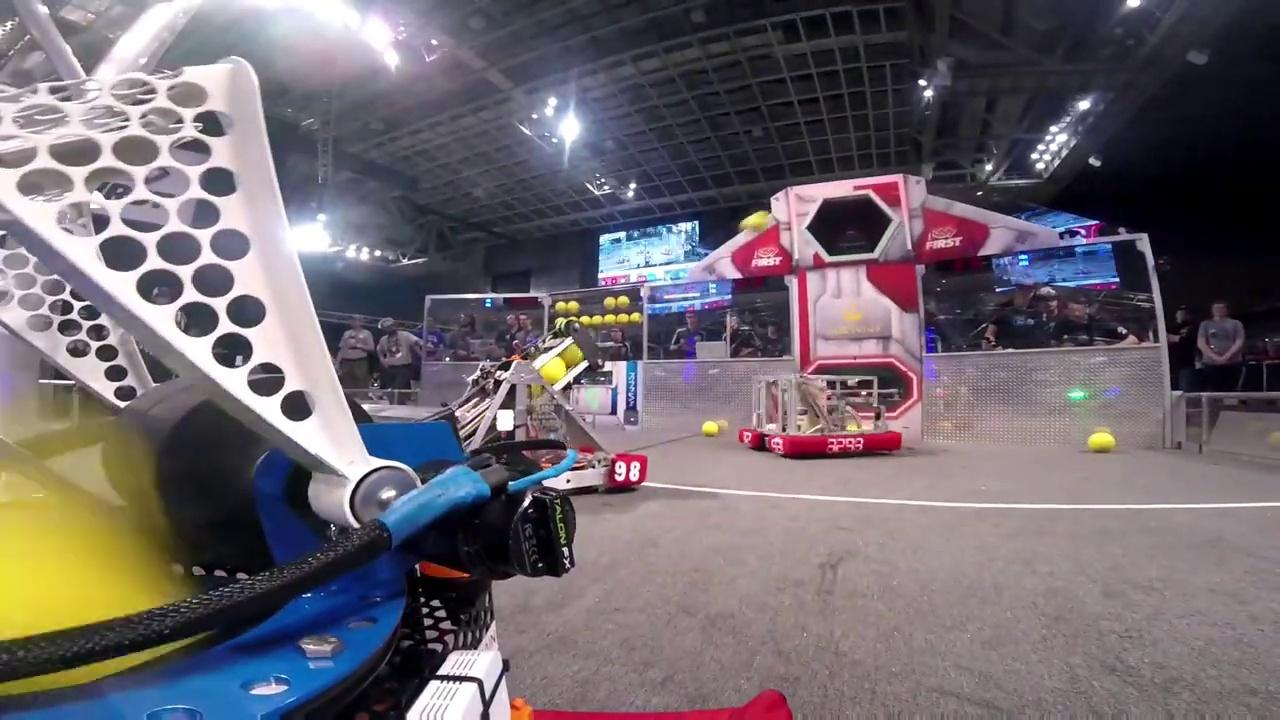robot: (447, 317, 651, 497), (737, 368, 905, 463)
